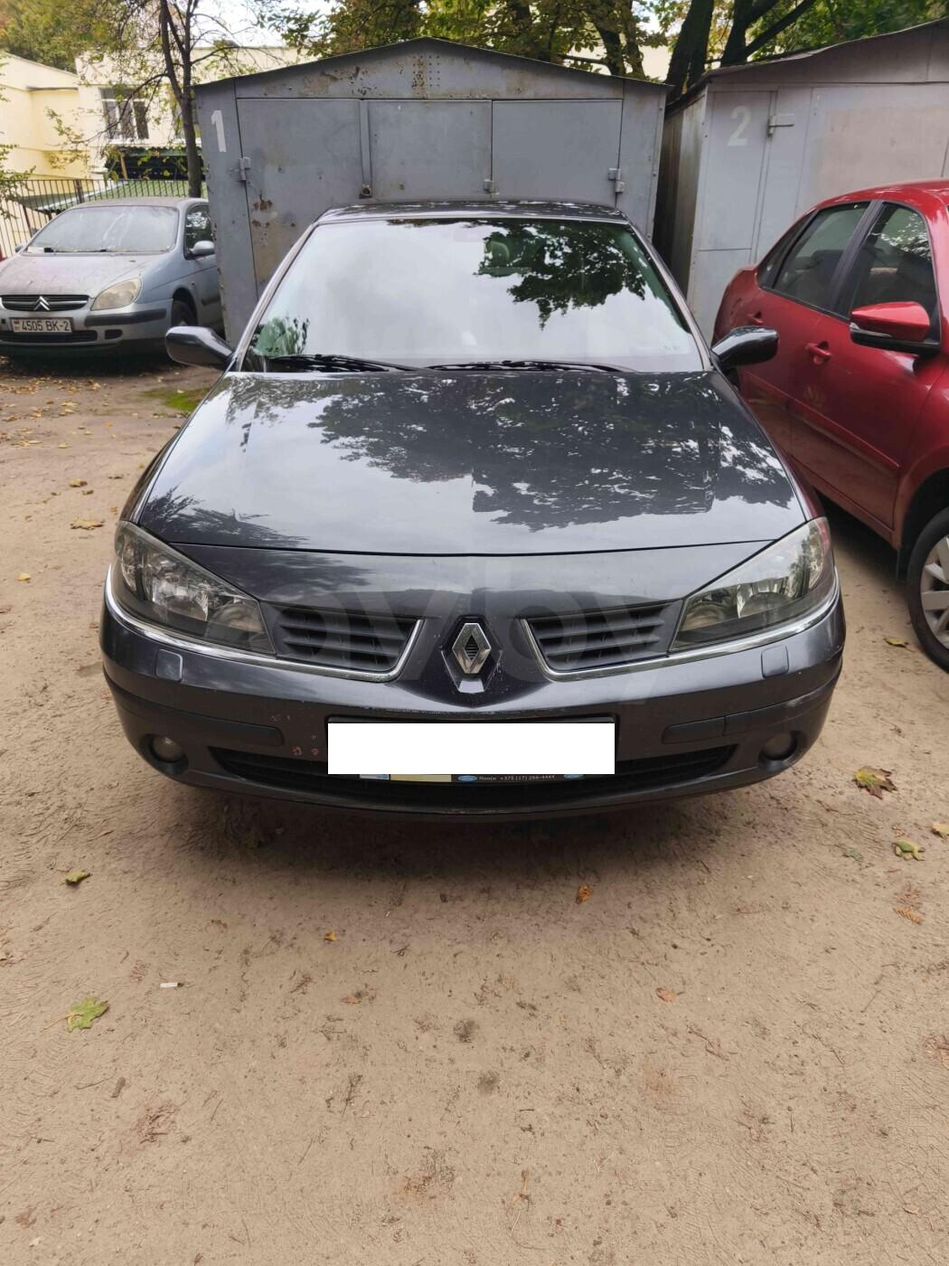Laguna_2005-2007: (96, 194, 860, 879)
